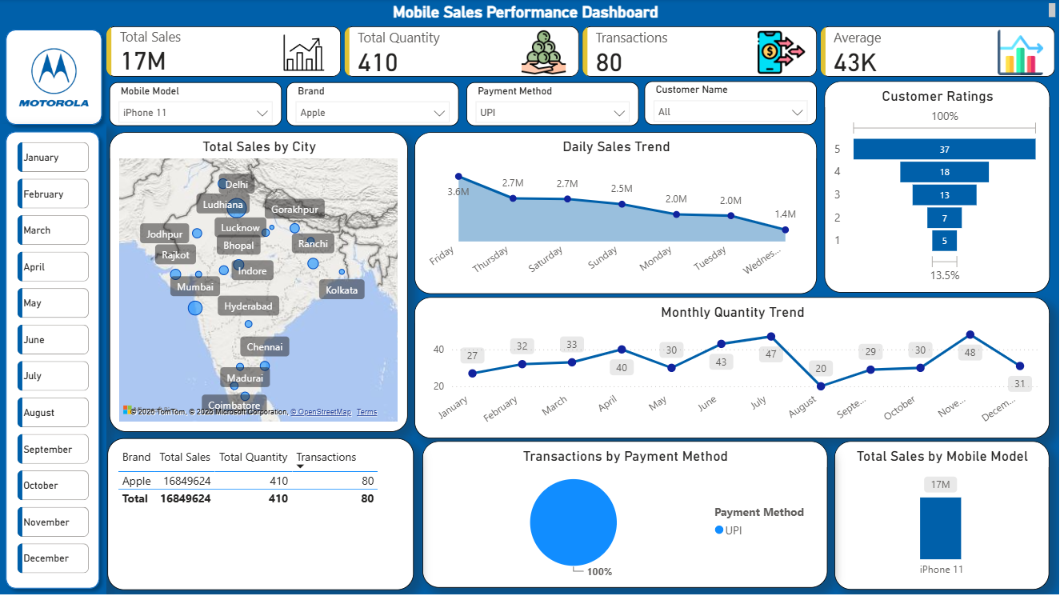

This screenshot's page, from the dashboard's own definition file:
{"tool":"powerbi","page":{"name":"Page 1","canvas":[1280,720],"ordinal":0},"visuals":[{"type":"shape","box":[0,27.7,133.9,132.7],"z":0},{"type":"shape","box":[0,151.3,130.8,569.2],"z":1000},{"type":"image","box":[14.5,51.9,105,84.5],"z":2000},{"type":"advancedSlicerVisual","fields":{"Values":["Mobile_Sales_Data.Date.Variation.Date Hierarchy.Month"]},"box":[17.9,167.9,96.2,534.6],"z":3000},{"type":"cardVisual","fields":{"Data":["Mobile_Sales_Data.Total Sales","Mobile_Sales_Data.Total Quantity","Mobile_Sales_Data.Transactions","Mobile_Sales_Data.Average"]},"box":[125.5,27.7,1154.6,71.2],"z":4000},{"type":"map","fields":{"Category":["Mobile_Sales_Data.City"],"Size":["Mobile_Sales_Data.Total Sales"]},"box":[133.3,160.3,360.3,361.5],"z":5000},{"type":"lineChart","title":"Monthly Quantity Trend","fields":{"Category":["Mobile_Sales_Data.Date.Variation.Date Hierarchy.Month","Mobile_Sales_Data.Date.Variation.Date Hierarchy.Day"],"Y":["Mobile_Sales_Data.Total Quantity"]},"box":[501.3,359,766.7,170.5],"z":6000},{"type":"clusteredColumnChart","fields":{"Y":["Mobile_Sales_Data.Total Sales"],"Category":["Mobile_Sales_Data.Mobile Model"]},"box":[1009,533.3,259,179.5],"z":7000},{"type":"pieChart","fields":{"Category":["Mobile_Sales_Data.Payment Method"],"Y":["Mobile_Sales_Data.Transactions"]},"box":[511.5,533.3,488.5,176.9],"z":8000},{"type":"funnel","title":"Customer Ratings","fields":{"Category":["Mobile_Sales_Data.Customer Ratings"],"Y":["CountNonNull(Mobile_Sales_Data.Customer Ratings)"]},"box":[996.2,98.7,271.8,255.1],"z":9000},{"type":"areaChart","title":"Daily Sales Trend","fields":{"Y":["Mobile_Sales_Data.Total Sales"],"Category":["Mobile_Sales_Data.Day Name"]},"box":[501.3,160.3,485.9,194.9],"z":10000},{"type":"tableEx","fields":{"Values":["Mobile_Sales_Data.Brand","Mobile_Sales_Data.Total Sales","Mobile_Sales_Data.Total Quantity","Mobile_Sales_Data.Transactions"]},"box":[132.1,529.5,369.2,183.3],"z":11000},{"type":"slicer","fields":{"Values":["Mobile_Sales_Data.Customer Name"]},"box":[779.5,98.7,207.7,52.6],"z":12000},{"type":"slicer","fields":{"Values":["Mobile_Sales_Data.Payment Method"]},"box":[564.1,100,207.7,52.6],"z":13000},{"type":"slicer","fields":{"Values":["Mobile_Sales_Data.Brand"]},"box":[347.4,100,207.7,52.6],"z":14000},{"type":"slicer","fields":{"Values":["Mobile_Sales_Data.Mobile Model"]},"box":[133.3,100,207.7,52.6],"z":15000},{"type":"textbox","box":[0,0,1280,27.7],"z":15001}]}

Visuals, with their boxes in screenshot pixels (x1, y1, x2, y2), scaled from the page's 1280x720 canvas onto the 1060x595 screenshot:
shape: box=[0, 23, 111, 133]
shape: box=[0, 125, 108, 594]
image: box=[12, 43, 99, 113]
advancedSlicerVisual - Mobile_Sales_Data.Date.Variation.Date Hierarchy.Month: box=[15, 139, 94, 581]
cardVisual - Mobile_Sales_Data.Total Sales x Mobile_Sales_Data.Total Quantity: box=[104, 23, 1059, 82]
map - Mobile_Sales_Data.City x Mobile_Sales_Data.Total Sales: box=[110, 132, 409, 431]
"Monthly Quantity Trend" lineChart: box=[415, 297, 1050, 438]
clusteredColumnChart - Mobile_Sales_Data.Total Sales x Mobile_Sales_Data.Mobile Model: box=[836, 441, 1050, 589]
pieChart - Mobile_Sales_Data.Payment Method x Mobile_Sales_Data.Transactions: box=[424, 441, 828, 587]
"Customer Ratings" funnel: box=[825, 82, 1050, 292]
"Daily Sales Trend" areaChart: box=[415, 132, 818, 294]
tableEx - Mobile_Sales_Data.Brand x Mobile_Sales_Data.Total Sales: box=[109, 438, 415, 589]
slicer - Mobile_Sales_Data.Customer Name: box=[646, 82, 818, 125]
slicer - Mobile_Sales_Data.Payment Method: box=[467, 83, 639, 126]
slicer - Mobile_Sales_Data.Brand: box=[288, 83, 460, 126]
slicer - Mobile_Sales_Data.Mobile Model: box=[110, 83, 282, 126]
textbox: box=[0, 0, 1059, 23]
